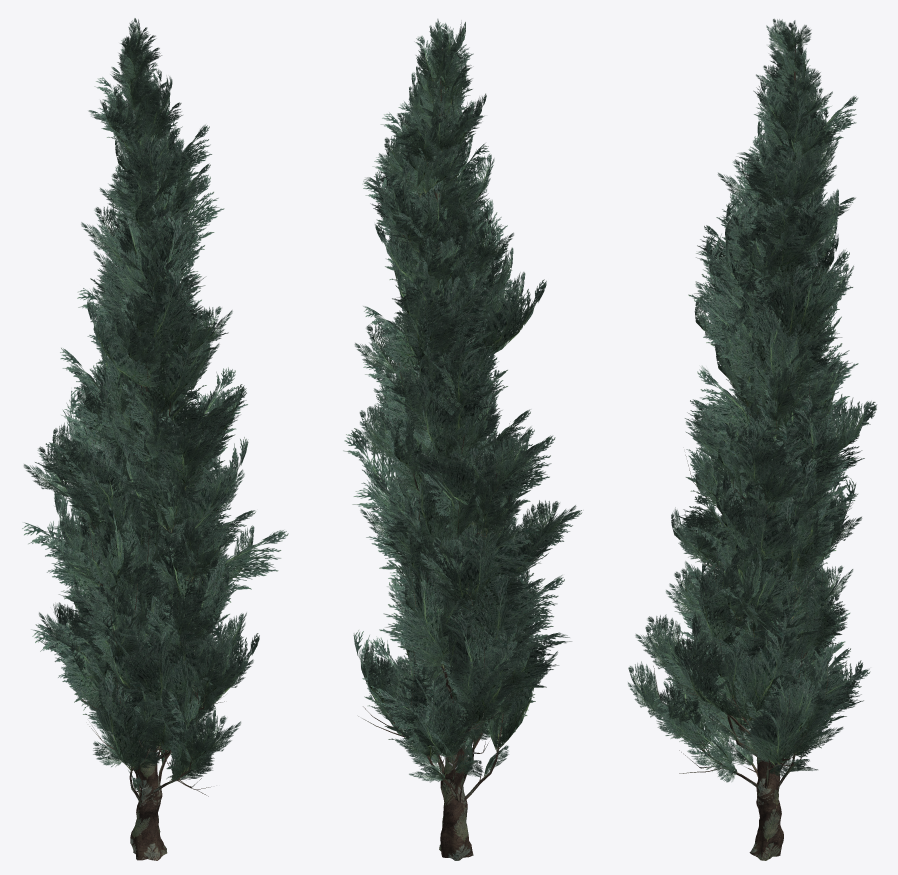
File: tree-cypress.glb
The picture shows the model from 3 angles, left to right: view 1: azimuth 30°, elevation 25°; view 2: azimuth 150°, elevation 25°; view 3: azimuth 270°, elevation 25°; orthographic projection. The views are drawn at different scales.
Parts seen in each view (by area): view 1: Cypress_V2_test_Cypress_2_sided_0, Cypress_V2_test_Cypress_bark_0; view 2: Cypress_V2_test_Cypress_2_sided_0, Cypress_V2_test_Cypress_bark_0; view 3: Cypress_V2_test_Cypress_2_sided_0, Cypress_V2_test_Cypress_bark_0.
Boxes of the visible parts, bbox=[...] form: Cypress_V2_test_Cypress_2_sided_0: bbox=[22, 18, 288, 794]; Cypress_V2_test_Cypress_bark_0: bbox=[69, 62, 240, 860]; Cypress_V2_test_Cypress_2_sided_0: bbox=[343, 19, 582, 782]; Cypress_V2_test_Cypress_bark_0: bbox=[358, 48, 527, 860]; Cypress_V2_test_Cypress_2_sided_0: bbox=[628, 18, 877, 782]; Cypress_V2_test_Cypress_bark_0: bbox=[653, 46, 839, 860].
Bounding box in the file's own units: 1.66 × 5.31 × 1.49.
Materials: 3 (2 with a texture image).
